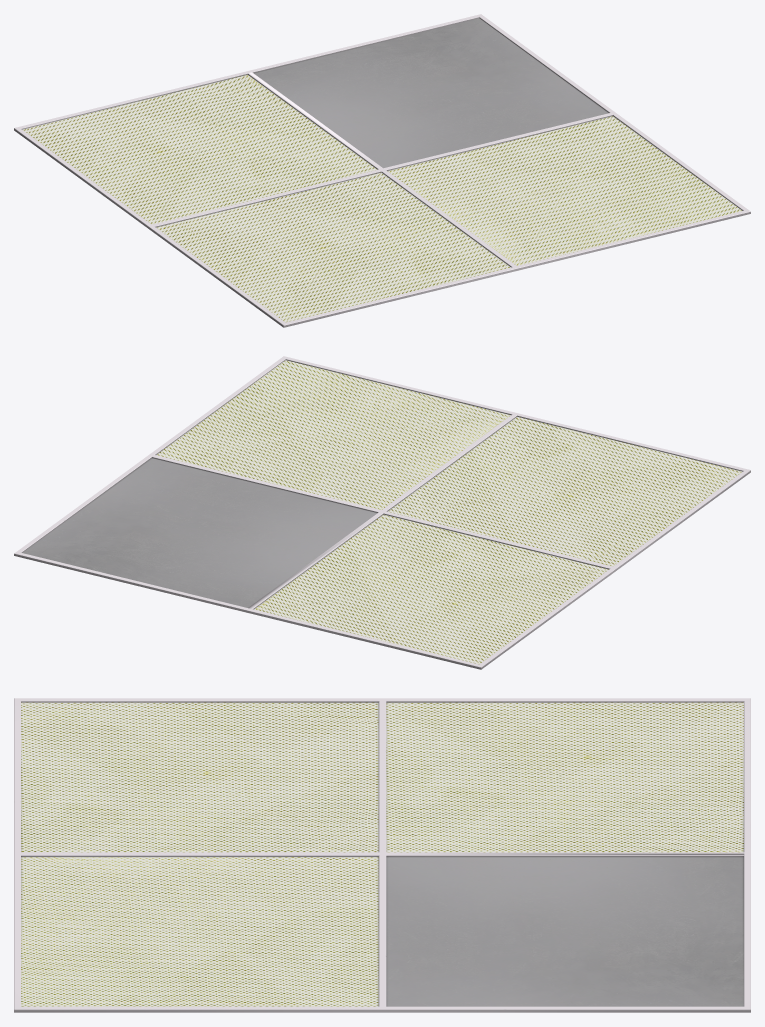
Rendered from video_store_ceiling.dae.
3 renders of one model, top to bottom at view 1: azimuth 30°, elevation 25°; view 2: azimuth 150°, elevation 25°; view 3: azimuth 270°, elevation 25°, orthographic. The views are drawn at different scales.
Parts seen in each view (by area): view 1: Mesh5_Group6_Group1_Model; view 2: Mesh5_Group6_Group1_Model; view 3: Mesh5_Group6_Group1_Model.
Part boxes in pixels (x1,y1,x2,y2): Mesh5_Group6_Group1_Model: (14,14,750,327); Mesh5_Group6_Group1_Model: (14,356,750,669); Mesh5_Group6_Group1_Model: (14,698,750,1012).
Bounding box in the file's own units: 2 × 2 × 0.01.
